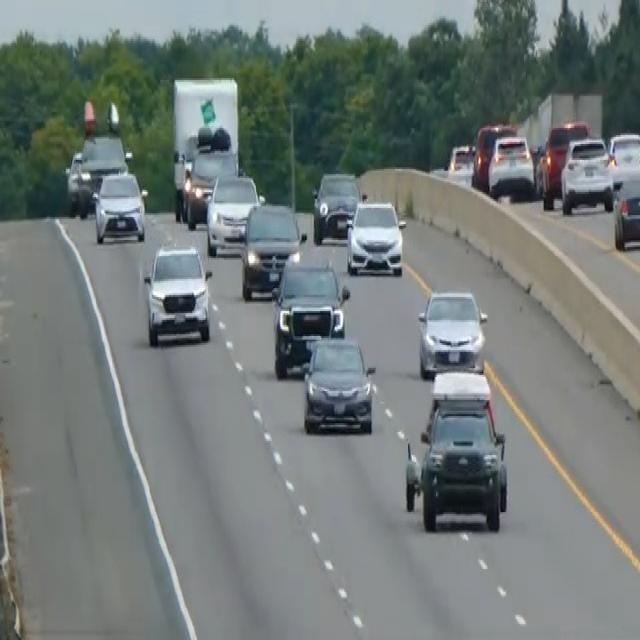car: (270, 251, 349, 377), (301, 332, 376, 436), (142, 240, 212, 347), (239, 199, 305, 301), (416, 286, 488, 377), (183, 126, 237, 228), (205, 169, 262, 256), (345, 196, 406, 276), (538, 118, 589, 206), (560, 134, 614, 214), (92, 169, 147, 243), (311, 169, 359, 243), (487, 132, 535, 199), (471, 121, 516, 190), (612, 172, 639, 250), (607, 130, 639, 192), (64, 148, 82, 214), (446, 140, 474, 176)
truck: (403, 368, 509, 533), (170, 73, 240, 222)
